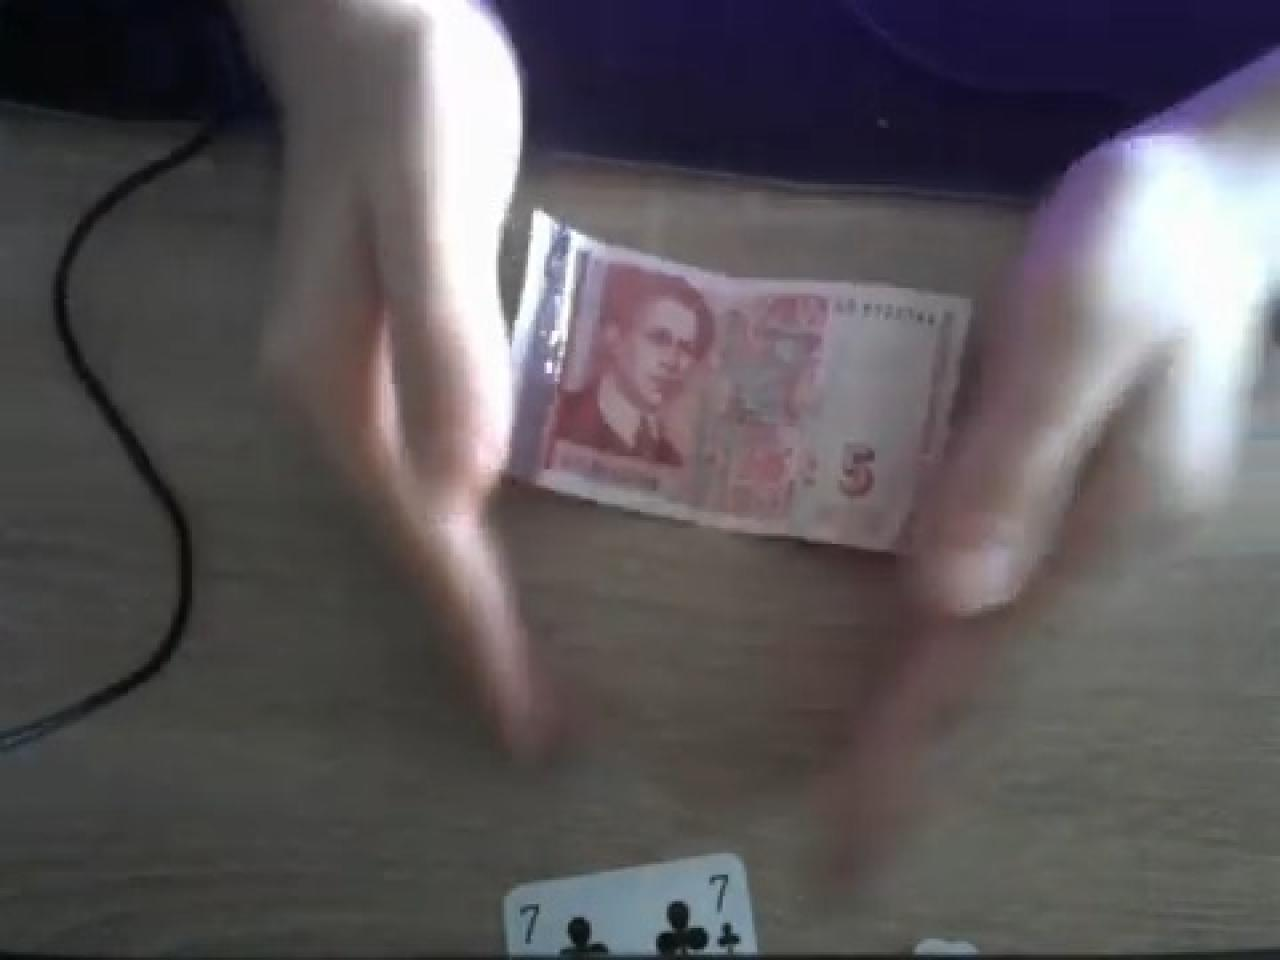5leva: (509, 219, 968, 555)
